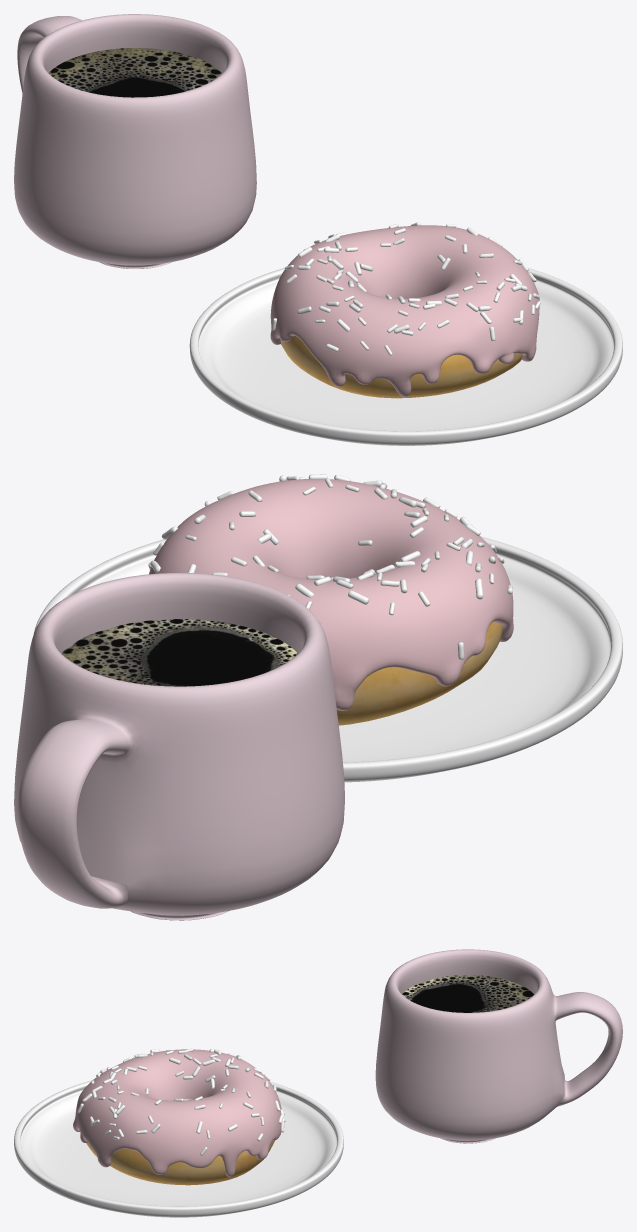
The model's file is donut.glb.
3 views of the same model, one above another, from view 1: azimuth 30°, elevation 25°; view 2: azimuth 150°, elevation 25°; view 3: azimuth 270°, elevation 25° (orthographic). The views are drawn at different scales.
Visible parts, largest first — view 1: Mug, Icing, Plate, Form, Donut; view 2: Mug, Icing, Plate, Form, Donut; view 3: Mug, Icing, Plate, Form, Donut.
Part boxes in pixels (x1,y1,x2,y2): Mug: [14, 14, 256, 268]; Icing: [270, 222, 540, 397]; Plate: [189, 268, 622, 445]; Form: [48, 48, 221, 97]; Donut: [281, 335, 522, 398]; Mug: [14, 573, 344, 920]; Icing: [148, 474, 513, 710]; Plate: [33, 536, 622, 782]; Form: [61, 619, 297, 686]; Donut: [336, 622, 502, 725]; Mug: [375, 949, 622, 1143]; Icing: [73, 1048, 285, 1177]; Plate: [14, 1080, 343, 1217]; Form: [402, 975, 533, 1012]; Donut: [86, 1140, 274, 1185].
Size of the model in its own units: 0.4868 by 0.2401 by 0.8984.
6 materials, 2 textured.
